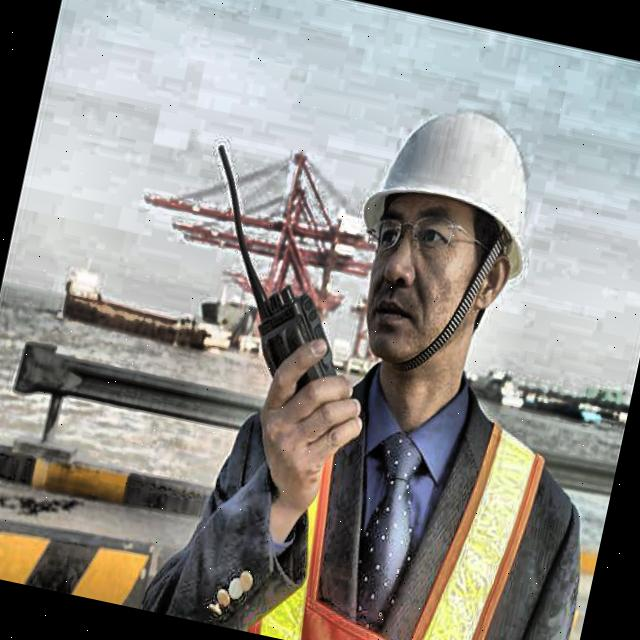helmet: (298, 48, 582, 429)
